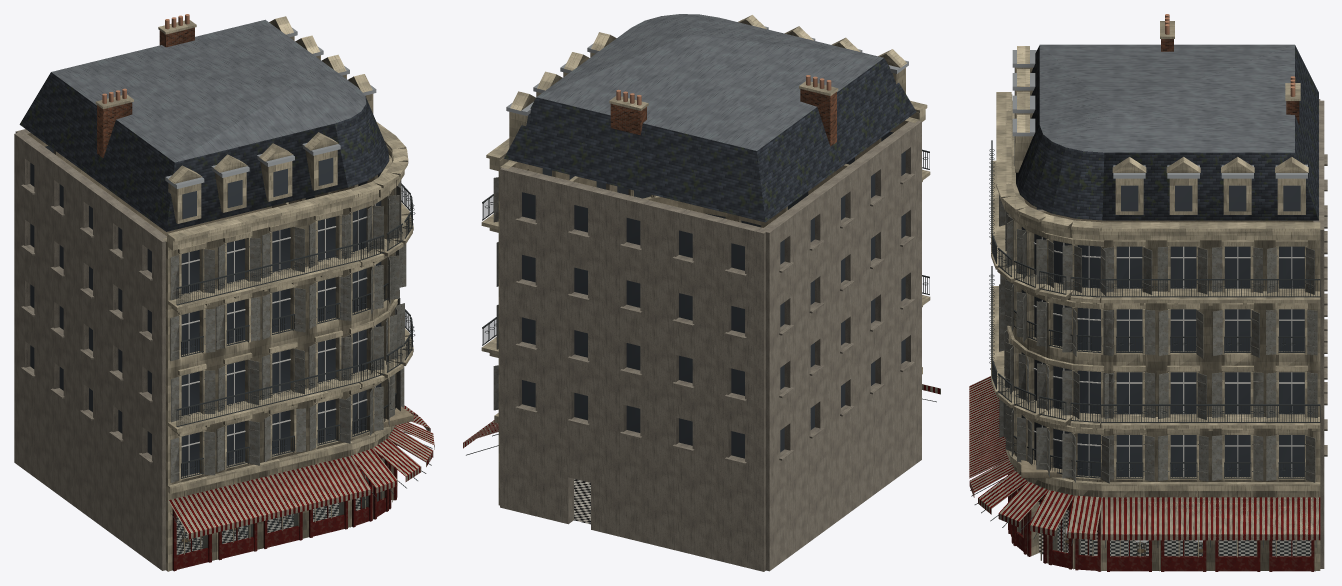
File: paris_corner.glb
3 renders of one model, left to right at view 1: azimuth 30°, elevation 25°; view 2: azimuth 150°, elevation 25°; view 3: azimuth 270°, elevation 25°, orthographic. The views are drawn at different scales.
Parts seen in each view (by area): view 1: ParisCorner; view 2: ParisCorner; view 3: ParisCorner.
Part boxes in pixels (x1,y1,x2,y2): ParisCorner: [14, 14, 434, 571]; ParisCorner: [463, 14, 940, 571]; ParisCorner: [969, 14, 1327, 571].
Size of the model in its own units: 16.55 by 22.01 by 16.55.
Materials: 22 (13 with a texture image).
